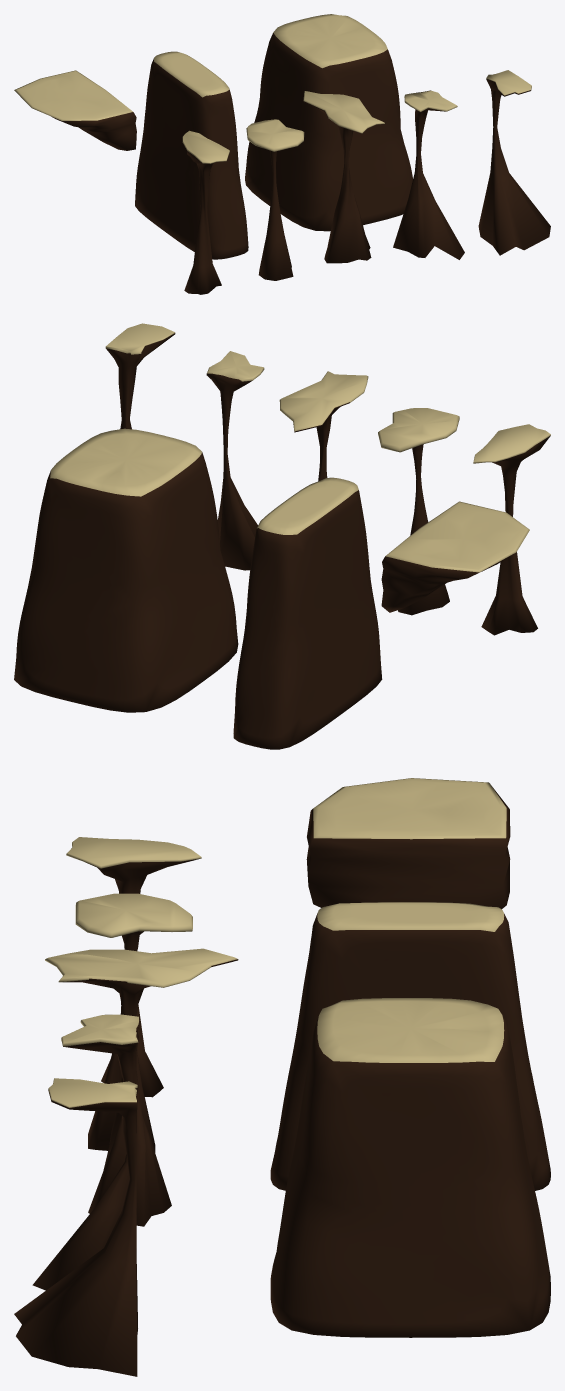
The model's file is LVL1.glb.
The picture shows the model from 3 angles, top to bottom: view 1: azimuth 30°, elevation 25°; view 2: azimuth 150°, elevation 25°; view 3: azimuth 270°, elevation 25°; orthographic projection. The views are drawn at different scales.
Visible parts, largest first — view 1: Cube.008, Cube.006, Cube.004, Cube.007, Cube.003, Cube.005, Cube.001, Cube.002; view 2: Cube.008, Cube.006, Cube.007, Cube.002, Cube.005, Cube.001, Cube.003, Cube.004; view 3: Cube.008, Cube.006, Cube.007, Cube.004, Cube.003, Cube.005, Cube.001, Cube.002.
Boxes of the visible parts, box(x1,y1,x2,y2) form: Cube.008: box(245, 14, 412, 231); Cube.006: box(135, 51, 248, 259); Cube.004: box(478, 70, 550, 255); Cube.007: box(14, 70, 136, 150); Cube.003: box(303, 91, 384, 263); Cube.005: box(393, 90, 464, 259); Cube.001: box(246, 119, 304, 280); Cube.002: box(182, 130, 229, 294); Cube.008: box(14, 428, 238, 712); Cube.006: box(233, 477, 382, 749); Cube.007: box(381, 501, 529, 612); Cube.002: box(473, 424, 550, 635); Cube.005: box(206, 351, 264, 570); Cube.001: box(378, 408, 459, 615); Cube.003: box(279, 371, 368, 481); Cube.004: box(105, 323, 175, 429); Cube.008: box(270, 998, 550, 1337); Cube.006: box(270, 902, 550, 1190); Cube.007: box(306, 778, 510, 909); Cube.004: box(14, 1078, 137, 1376); Cube.003: box(45, 948, 238, 1226); Cube.005: box(32, 1014, 138, 1290); Cube.001: box(75, 893, 192, 1152); Cube.002: box(66, 837, 201, 1097).
Bounding box in the file's own units: 117 × 42.32 × 75.77.
